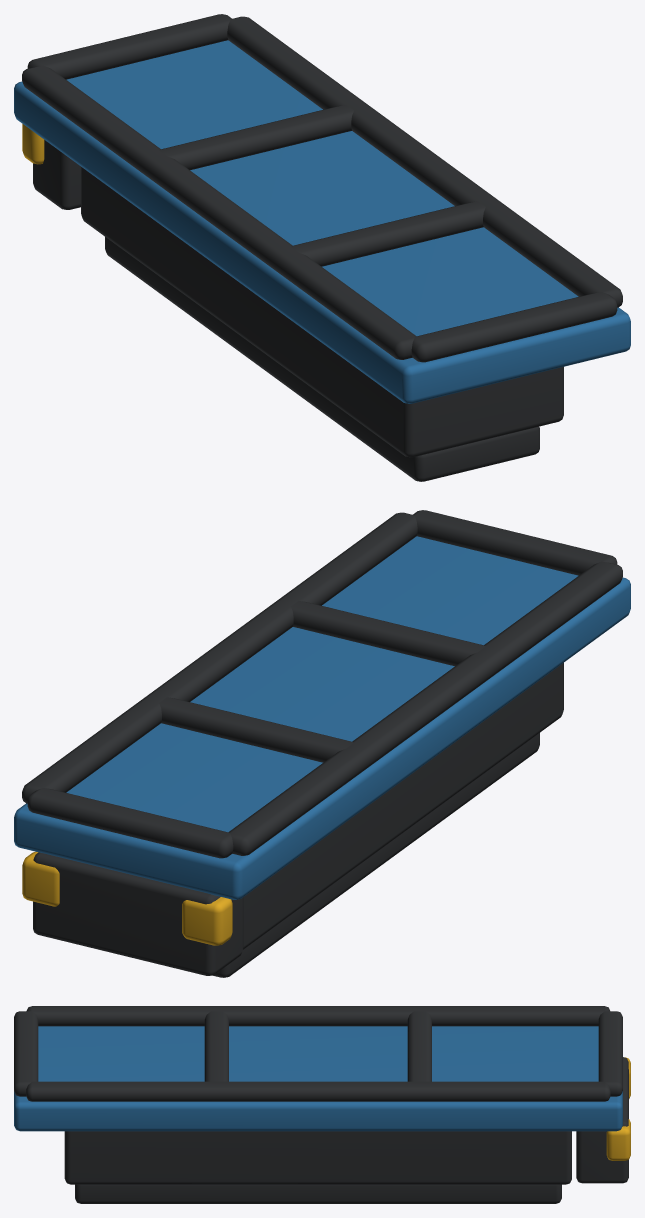
File: frame-1x3.glb
The picture shows the model from 3 angles, top to bottom: view 1: azimuth 30°, elevation 25°; view 2: azimuth 150°, elevation 25°; view 3: azimuth 270°, elevation 25°; orthographic projection. The views are drawn at different scales.
Parts seen in each view (by area): view 1: rig-body; view 2: rig-body; view 3: rig-body.
Boxes of the visible parts, x1=… form: rig-body: x1=14, y1=14, x2=630, y2=481; rig-body: x1=14, y1=510, x2=630, y2=977; rig-body: x1=14, y1=1006, x2=630, y2=1203.
Size of the model in its own units: 1 by 0.74 by 3.04.
